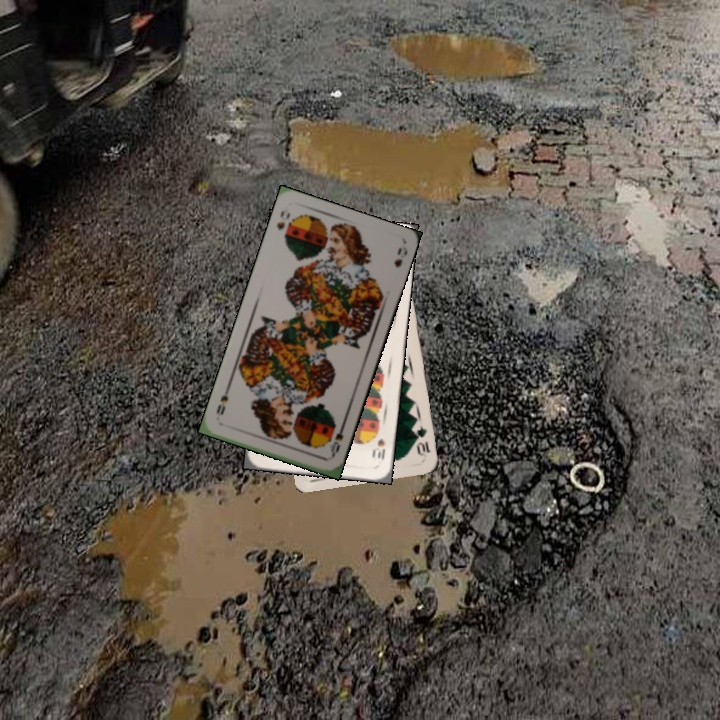G10: (411, 421, 433, 459)
S10: (374, 435, 388, 463)
SO: (326, 421, 347, 460), (273, 206, 293, 233)
